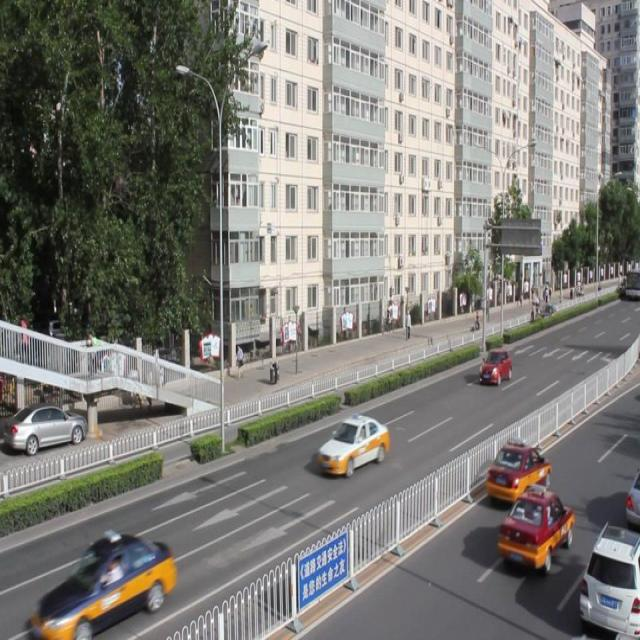car: (28, 514, 174, 640), (579, 514, 640, 634), (303, 398, 392, 475), (512, 488, 561, 600), (6, 390, 89, 451), (467, 338, 519, 413), (486, 432, 546, 488)
